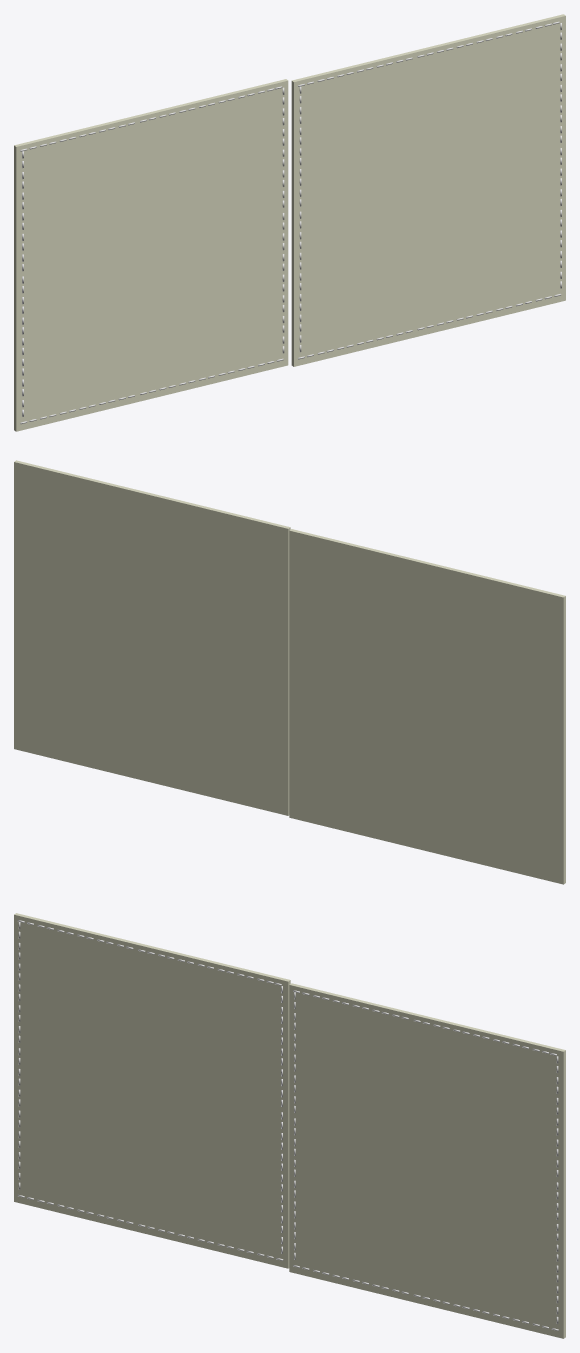
The model's file is placa.dae.
3 renders of one model, top to bottom at view 1: azimuth 30°, elevation 25°; view 2: azimuth 150°, elevation 25°; view 3: azimuth 330°, elevation 25°, orthographic.
Parts seen in each view (by area): view 1: placa couro pespontado_003, placa couro pespontado_001; view 2: placa couro pespontado_001, placa couro pespontado_003; view 3: placa couro pespontado_003, placa couro pespontado_001.
Boxes of the visible parts, box(x1,y1,x2,y2) form: placa couro pespontado_003: box(291, 14, 565, 366); placa couro pespontado_001: box(14, 79, 288, 431); placa couro pespontado_001: box(289, 529, 565, 884); placa couro pespontado_003: box(14, 460, 290, 815); placa couro pespontado_003: box(289, 983, 565, 1338); placa couro pespontado_001: box(14, 913, 290, 1268).
Size of the model in its own units: 27.72 by 13.82 by 0.4735.
